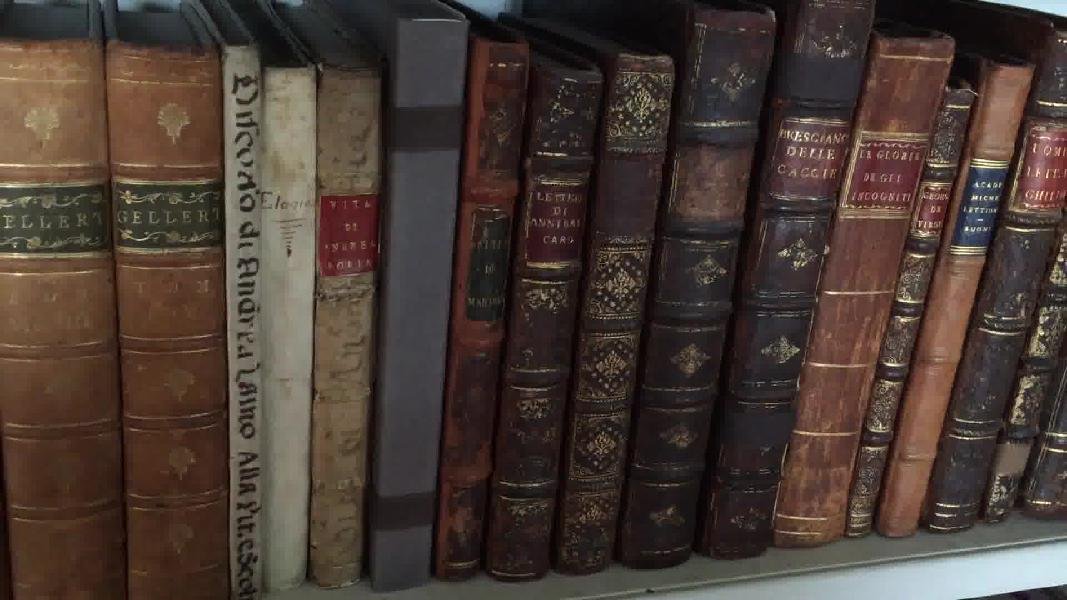Aa6-24: (219, 47, 270, 598)
Aa6-25: (263, 65, 317, 598)
Aa6-26: (320, 59, 385, 588)
Aa6-27: (365, 8, 466, 594)
Aa6-28: (436, 20, 528, 590)
Aa6-29: (489, 28, 601, 588)
Aa6-30: (565, 39, 667, 579)
Aa6-31: (629, 1, 767, 575)
Aa6-32: (697, 1, 873, 566)
Aa6-33: (751, 8, 965, 551)
Aa6-34: (835, 59, 952, 561)
Aa6-35: (878, 58, 1029, 552)
Aa6-36: (928, 8, 1067, 531)
